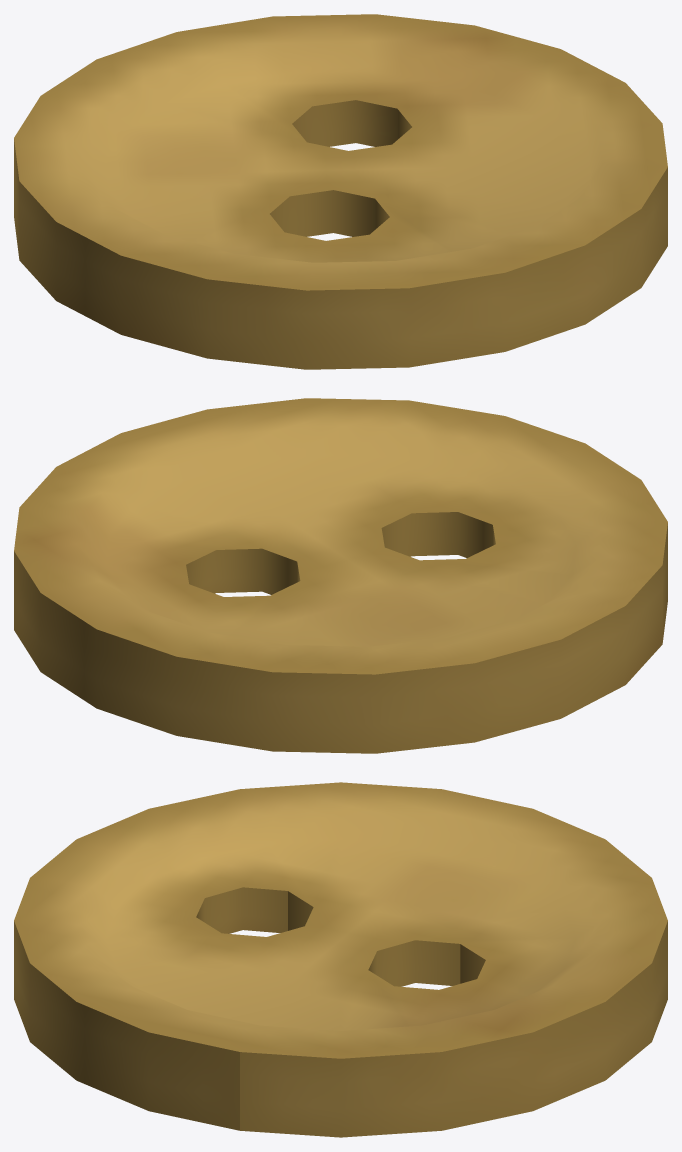
The model's file is SM_Farm_Button_06.fbx.
3 views of the same model, one above another, from view 1: azimuth 30°, elevation 25°; view 2: azimuth 150°, elevation 25°; view 3: azimuth 270°, elevation 25° (orthographic).
Visible parts, largest first — view 1: SM_Farm_Button_06_LOD0; view 2: SM_Farm_Button_06_LOD0; view 3: SM_Farm_Button_06_LOD0.
Part boxes in pixels (x1,y1,x2,y2): SM_Farm_Button_06_LOD0: [14, 14, 667, 369]; SM_Farm_Button_06_LOD0: [14, 398, 667, 753]; SM_Farm_Button_06_LOD0: [14, 782, 667, 1137].
Bounding box in the file's own units: 5.88 × 0.7813 × 5.88.
